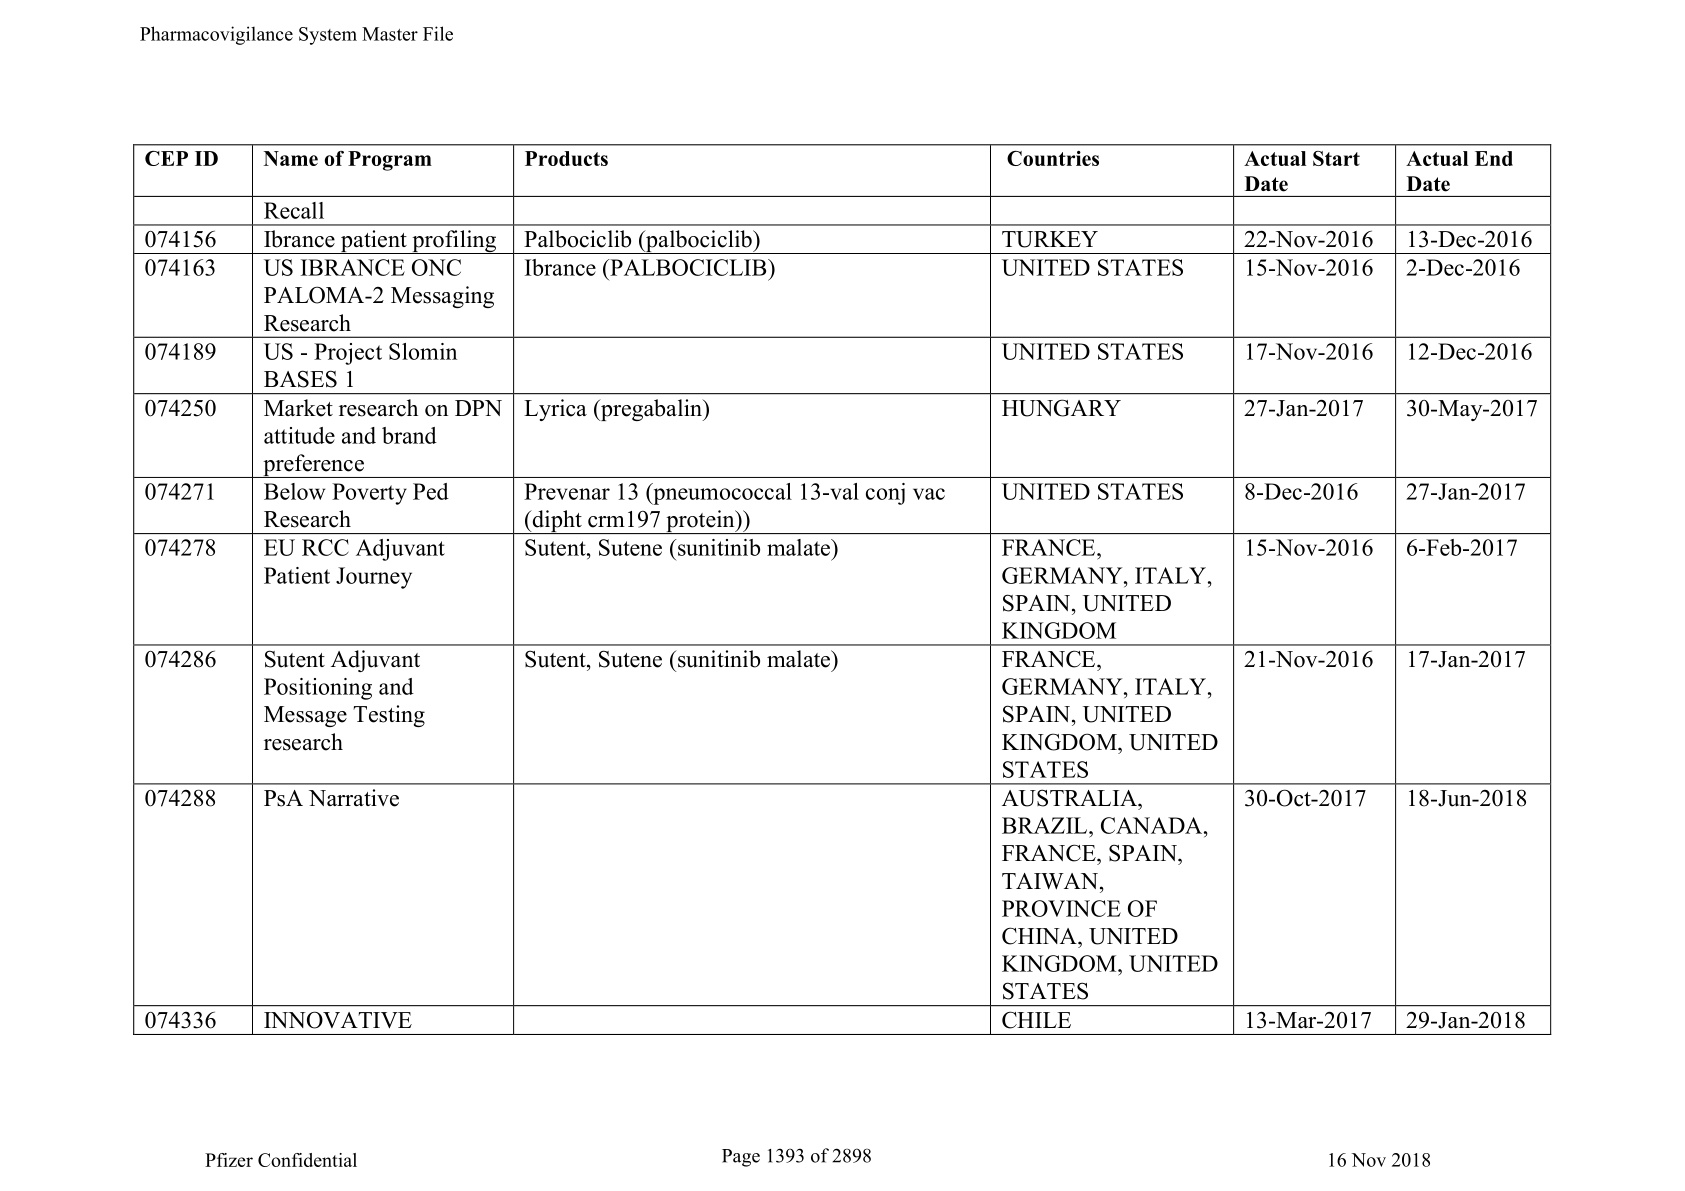full_lined: (133, 144, 1552, 1036)
